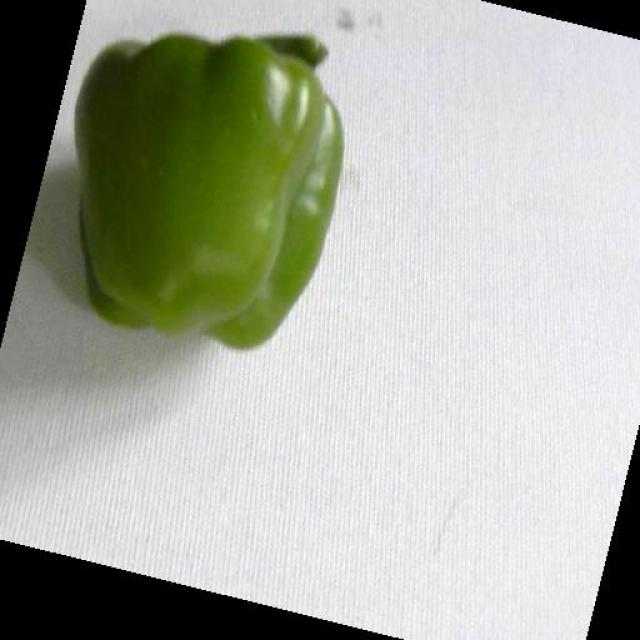Fresh_Capsicum: (39, 20, 382, 362)
